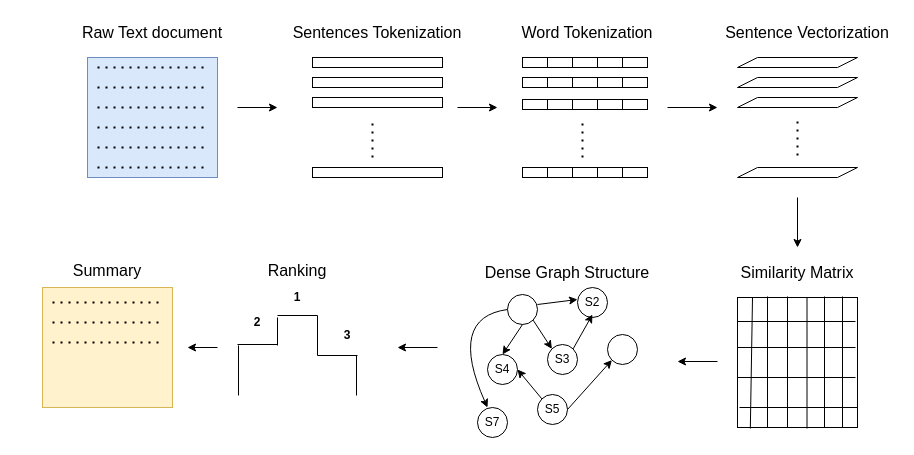
The diagram is 914 pixels wide and 455 high, and some of its shapes have lost their labels. The centre of each missing label's shape, as x and y in pixels:
"S1" goes at point 522,309.
"S6" goes at point 622,349.
